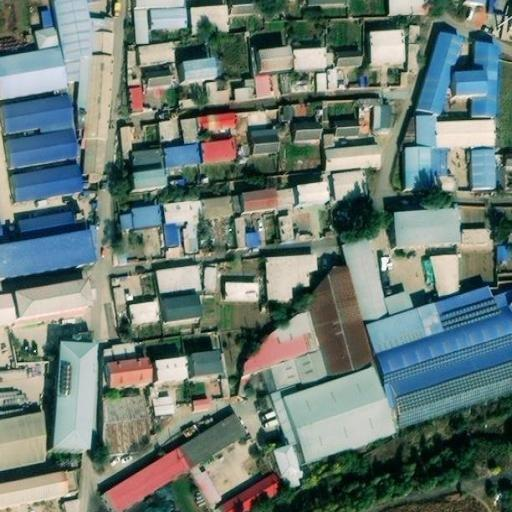building: (372, 311, 512, 432), (284, 367, 397, 460), (364, 282, 508, 352), (304, 262, 377, 382), (239, 308, 330, 396), (339, 236, 414, 323), (102, 449, 190, 512), (79, 27, 113, 179), (56, 343, 94, 451), (178, 414, 249, 469), (0, 49, 70, 102), (417, 33, 461, 114), (94, 389, 148, 451), (0, 92, 76, 136), (12, 280, 94, 320), (455, 41, 498, 115), (405, 115, 495, 150), (0, 464, 71, 506), (9, 130, 76, 172), (394, 208, 462, 245), (101, 343, 154, 386), (267, 255, 316, 300), (261, 391, 299, 448), (12, 167, 77, 200), (404, 149, 453, 192), (0, 359, 41, 408), (15, 212, 80, 241), (135, 4, 187, 40), (324, 138, 377, 169), (130, 147, 166, 189), (186, 3, 230, 36), (32, 7, 63, 53), (433, 253, 463, 300), (365, 29, 402, 67), (156, 266, 201, 297), (274, 446, 305, 490), (196, 194, 242, 222), (190, 472, 223, 508), (159, 292, 201, 320), (257, 44, 296, 74), (120, 204, 162, 231), (470, 146, 497, 188), (239, 187, 280, 213), (358, 98, 391, 130), (160, 200, 198, 226), (162, 143, 201, 168), (198, 139, 235, 164), (294, 46, 332, 70), (186, 351, 221, 377), (152, 356, 188, 381), (124, 301, 161, 325), (248, 127, 279, 154), (333, 172, 363, 199), (180, 57, 215, 80), (296, 183, 329, 207), (233, 103, 271, 123), (153, 388, 179, 417), (137, 43, 172, 64), (388, 0, 433, 16), (119, 42, 137, 82), (276, 97, 308, 119), (144, 66, 174, 88), (292, 117, 319, 141), (196, 115, 234, 132), (461, 228, 493, 246), (330, 49, 361, 67), (106, 277, 125, 306), (254, 72, 276, 97), (402, 24, 413, 74), (183, 223, 199, 255), (128, 83, 144, 115), (187, 390, 212, 410), (487, 202, 512, 222), (226, 282, 257, 298), (238, 251, 259, 274), (162, 225, 177, 257), (231, 217, 245, 250), (159, 120, 176, 147), (173, 87, 197, 106), (199, 267, 217, 292), (121, 127, 135, 159), (236, 77, 256, 99), (181, 119, 198, 144), (279, 215, 294, 243), (57, 493, 79, 512), (278, 189, 298, 209), (202, 82, 217, 106), (334, 119, 356, 135), (315, 67, 327, 93), (305, 0, 348, 5), (501, 225, 512, 242), (502, 150, 512, 167)
